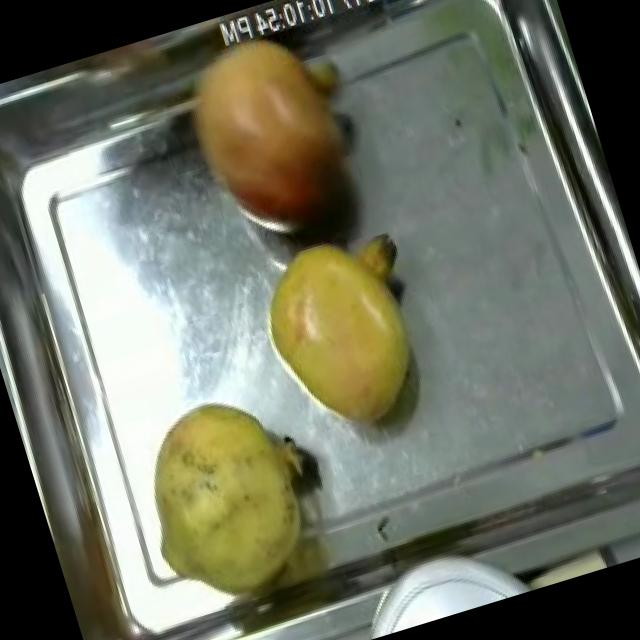fruit: (147, 0, 389, 271), (112, 367, 347, 624), (240, 212, 448, 461)
